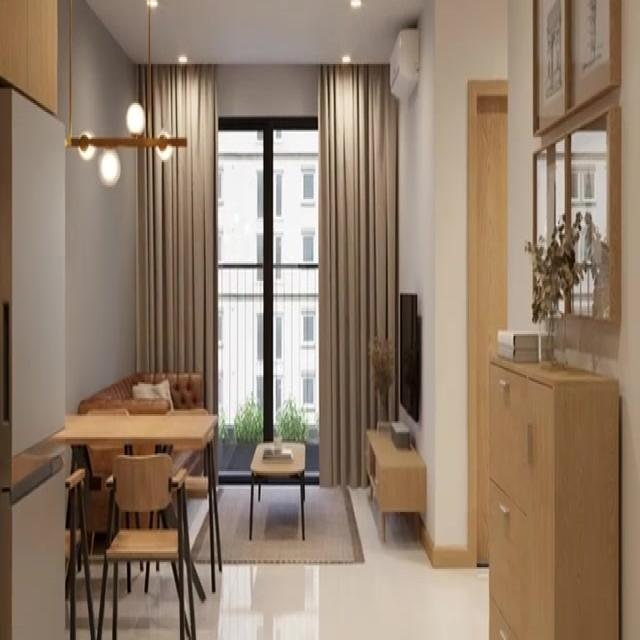door: (470, 85, 510, 567)
obstacle: (0, 86, 69, 638), (487, 354, 620, 638), (52, 409, 221, 599), (74, 370, 208, 540), (366, 426, 425, 532), (248, 437, 307, 541)
